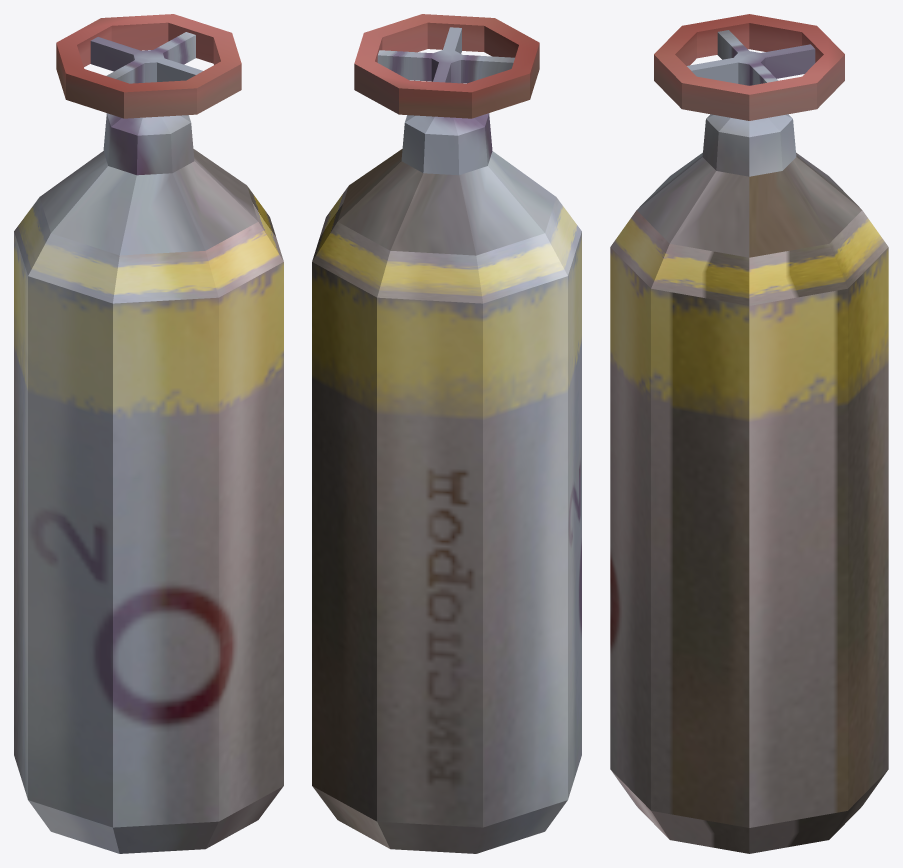
File: oxygen.fbx
The picture shows the model from 3 angles, left to right: view 1: azimuth 30°, elevation 25°; view 2: azimuth 150°, elevation 25°; view 3: azimuth 270°, elevation 25°; orthographic projection.
Visible parts, largest first — view 1: oxygen; view 2: oxygen; view 3: oxygen.
Boxes of the visible parts, x1,y1,x2,y2 form: oxygen: (14,14,283,853); oxygen: (312,14,581,853); oxygen: (610,14,888,853).
Bounding box in the file's own units: 39.76 × 118 × 39.76.
